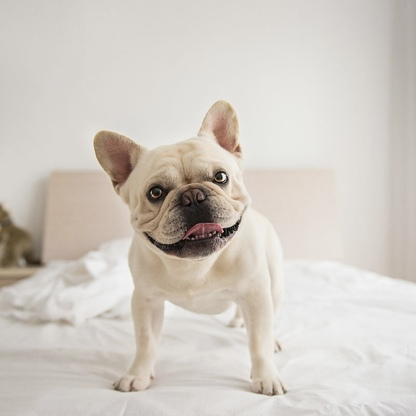bulldog: (89, 99, 295, 398)
